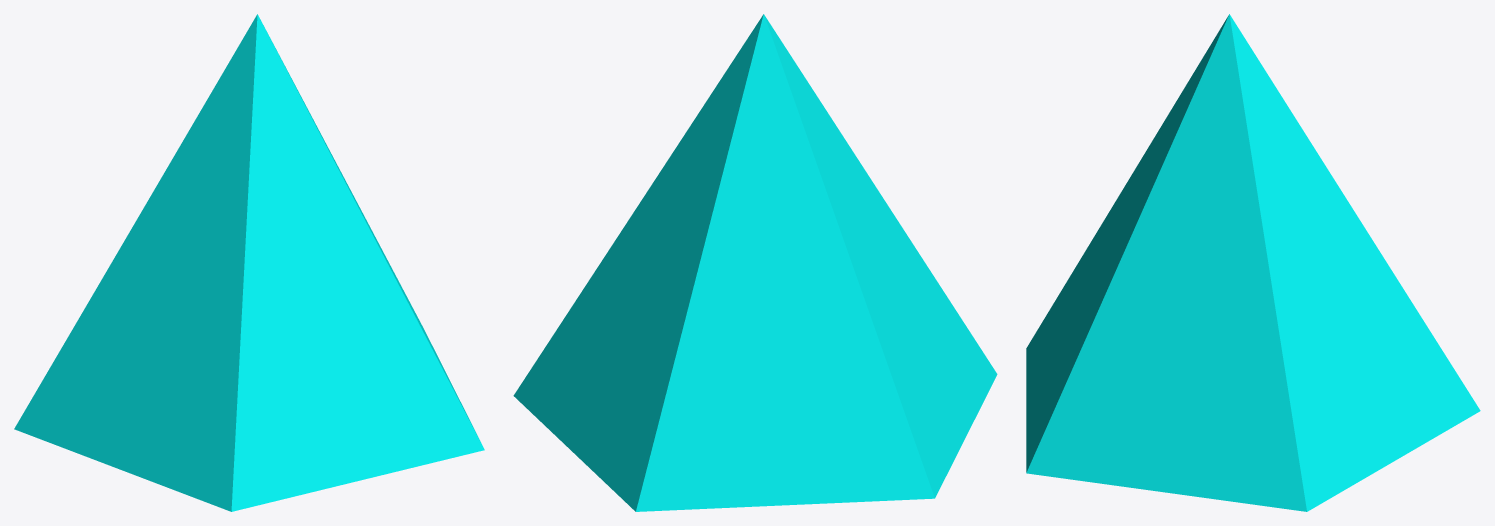
File: figura06.fbx
3 renders of one model, left to right at view 1: azimuth 30°, elevation 25°; view 2: azimuth 150°, elevation 25°; view 3: azimuth 270°, elevation 25°, orthographic. The views are drawn at different scales.
Parts seen in each view (by area): view 1: Model; view 2: Model; view 3: Model.
Part boxes in pixels (box(x1,y1,x2,y2)): Model: box(14, 14, 484, 511); Model: box(513, 14, 997, 511); Model: box(1026, 14, 1480, 511).
Size of the model in its own units: 4326 by 3965 by 4115.
